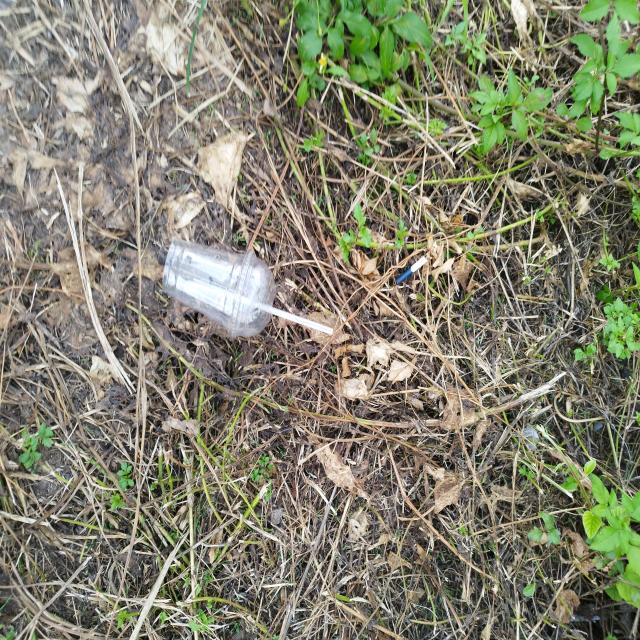drinking straw: (272, 304, 333, 335)
plastic glass: (162, 238, 276, 338)
